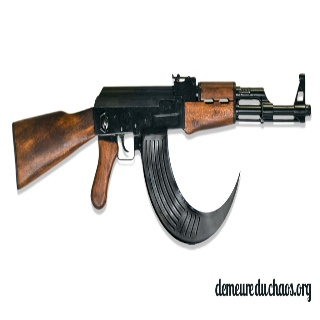rifle: (11, 72, 312, 211)
